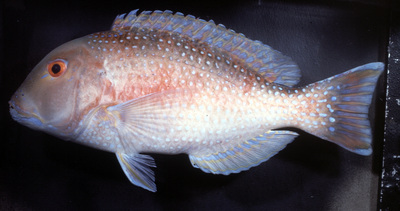fish: (9, 9, 384, 193)
